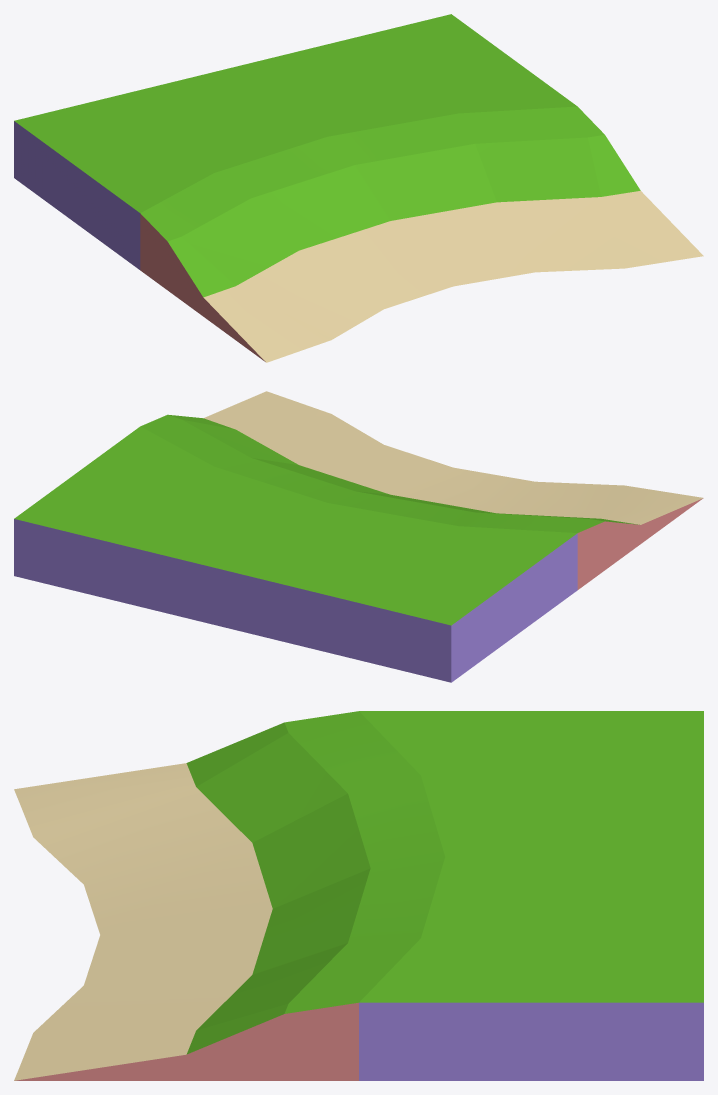
File: Path_Terrain_Deformed_Straight_Concave_2x2.glb
3 views of the same model, one above another, from view 1: azimuth 30°, elevation 25°; view 2: azimuth 150°, elevation 25°; view 3: azimuth 270°, elevation 25° (orthographic). The views are drawn at different scales.
Parts seen in each view (by area): view 1: Path_Terrain_Deformed_Straight_Concave_2x2; view 2: Path_Terrain_Deformed_Straight_Concave_2x2; view 3: Path_Terrain_Deformed_Straight_Concave_2x2.
Part boxes in pixels (<box>): Path_Terrain_Deformed_Straight_Concave_2x2: <box>14,14,703,362</box>; Path_Terrain_Deformed_Straight_Concave_2x2: <box>14,391,703,682</box>; Path_Terrain_Deformed_Straight_Concave_2x2: <box>14,711,703,1080</box>.
Size of the model in its own units: 200 by 25 by 200.
